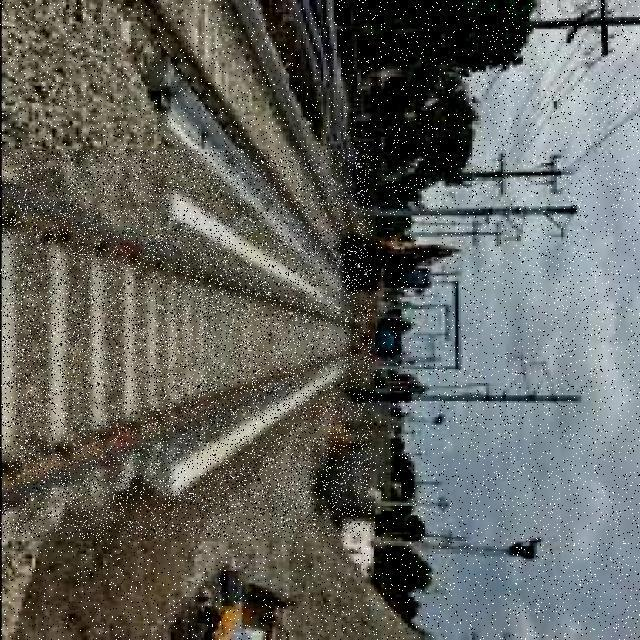rail: (3, 150, 372, 538), (75, 0, 355, 282)
